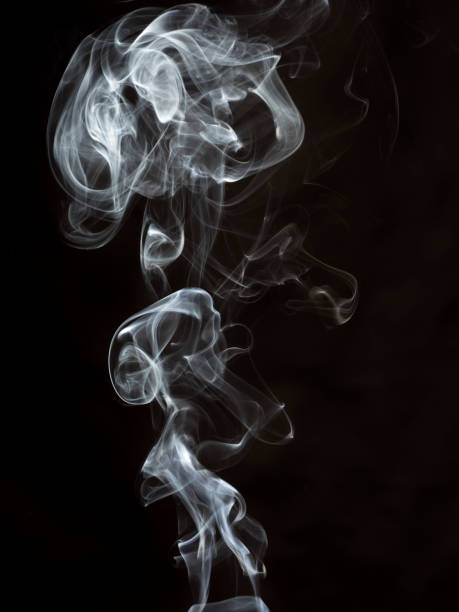smoke: (55, 5, 310, 267), (95, 282, 284, 612)
